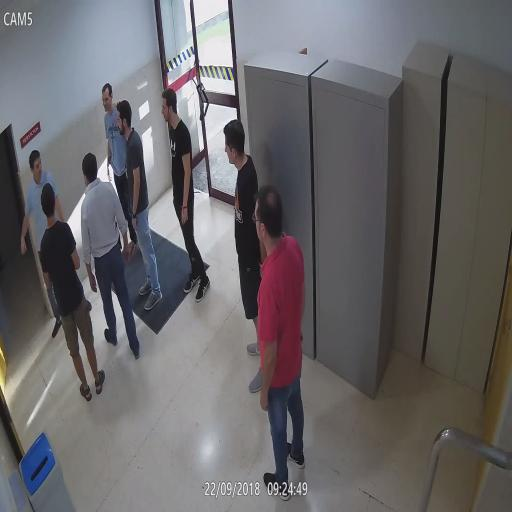Handgun: (114, 219, 122, 250), (106, 152, 112, 166)
